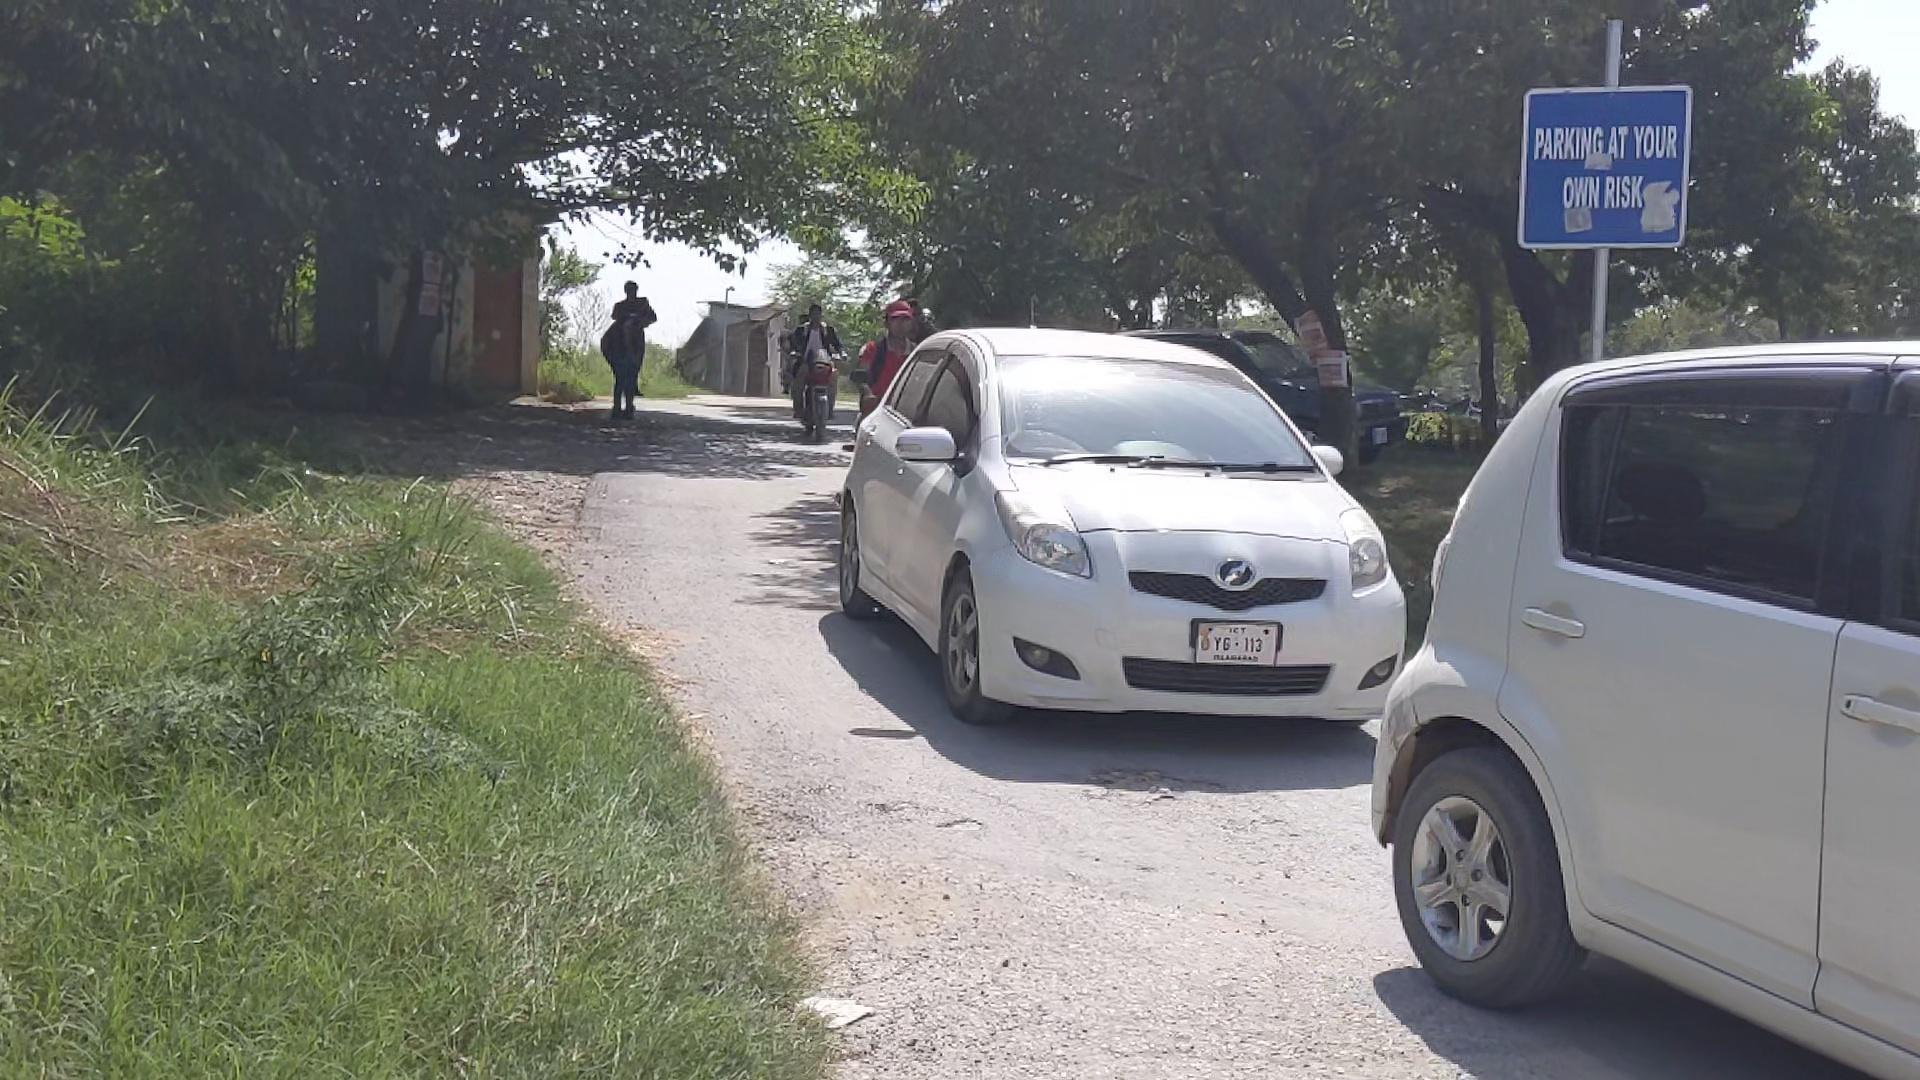windshield: (988, 343, 1333, 476)
